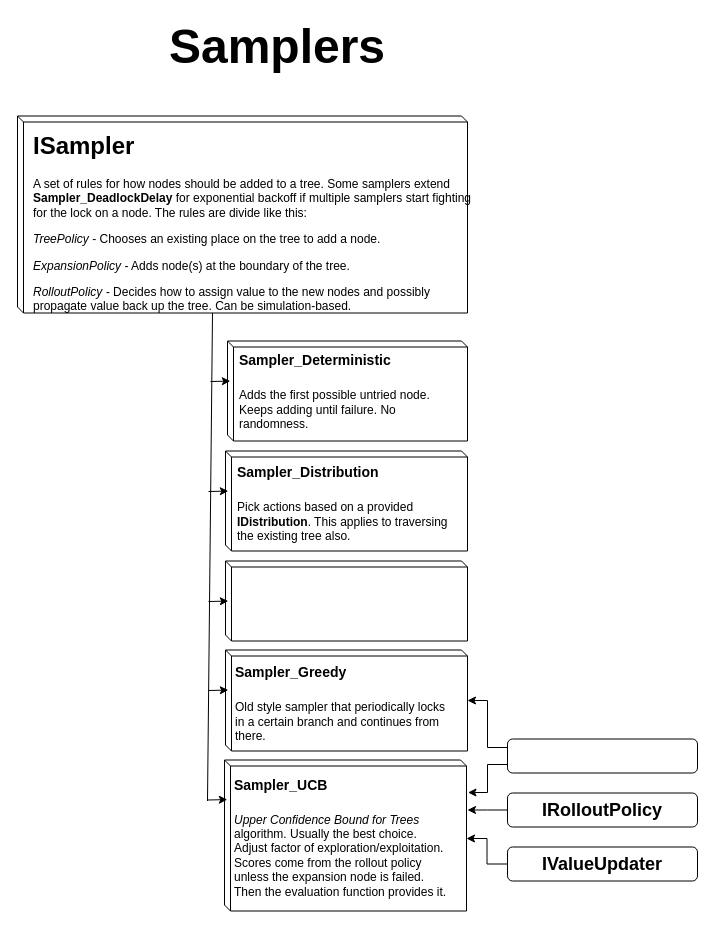
This 715x930 diagram has some shape labels left out. The centre of each missing label's shape, as x and y in pixels:
IEvaluationFunction: the point at 602,755
Sampler_Random Purely random for both traversing tree and adding nodes.: the point at 346,600
